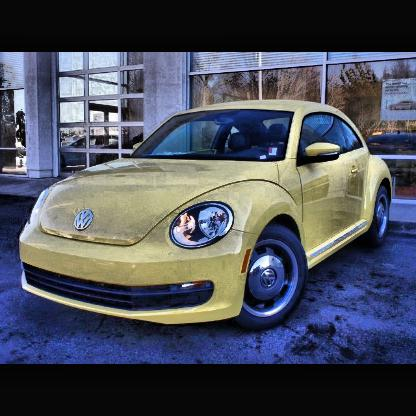Volkswagen Beetle Hatchback 2012: (20, 101, 394, 333)
